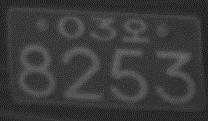0: (56, 14, 85, 39)
2: (61, 44, 103, 102)
3: (155, 49, 196, 106), (89, 15, 116, 41)
5: (109, 47, 148, 103)
8: (17, 44, 56, 98)
오: (122, 16, 148, 43)
